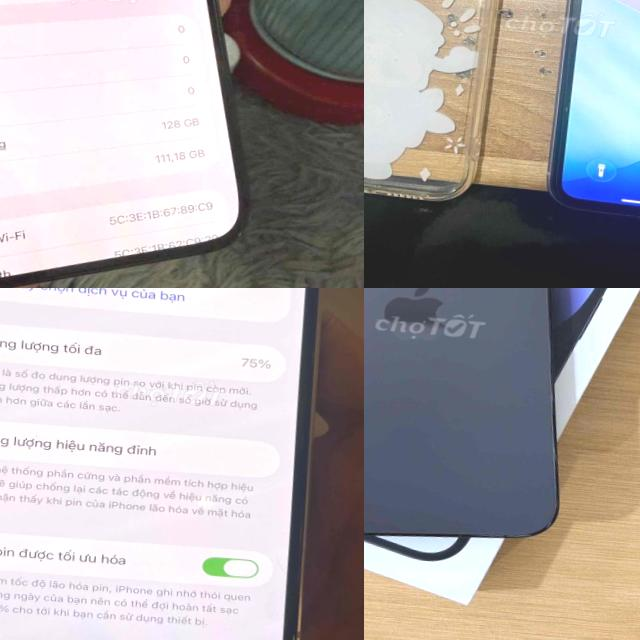gen_11: (538, 0, 640, 236)
gen_12_13: (0, 288, 364, 640)
gen_14: (0, 0, 310, 288), (364, 288, 599, 554)
